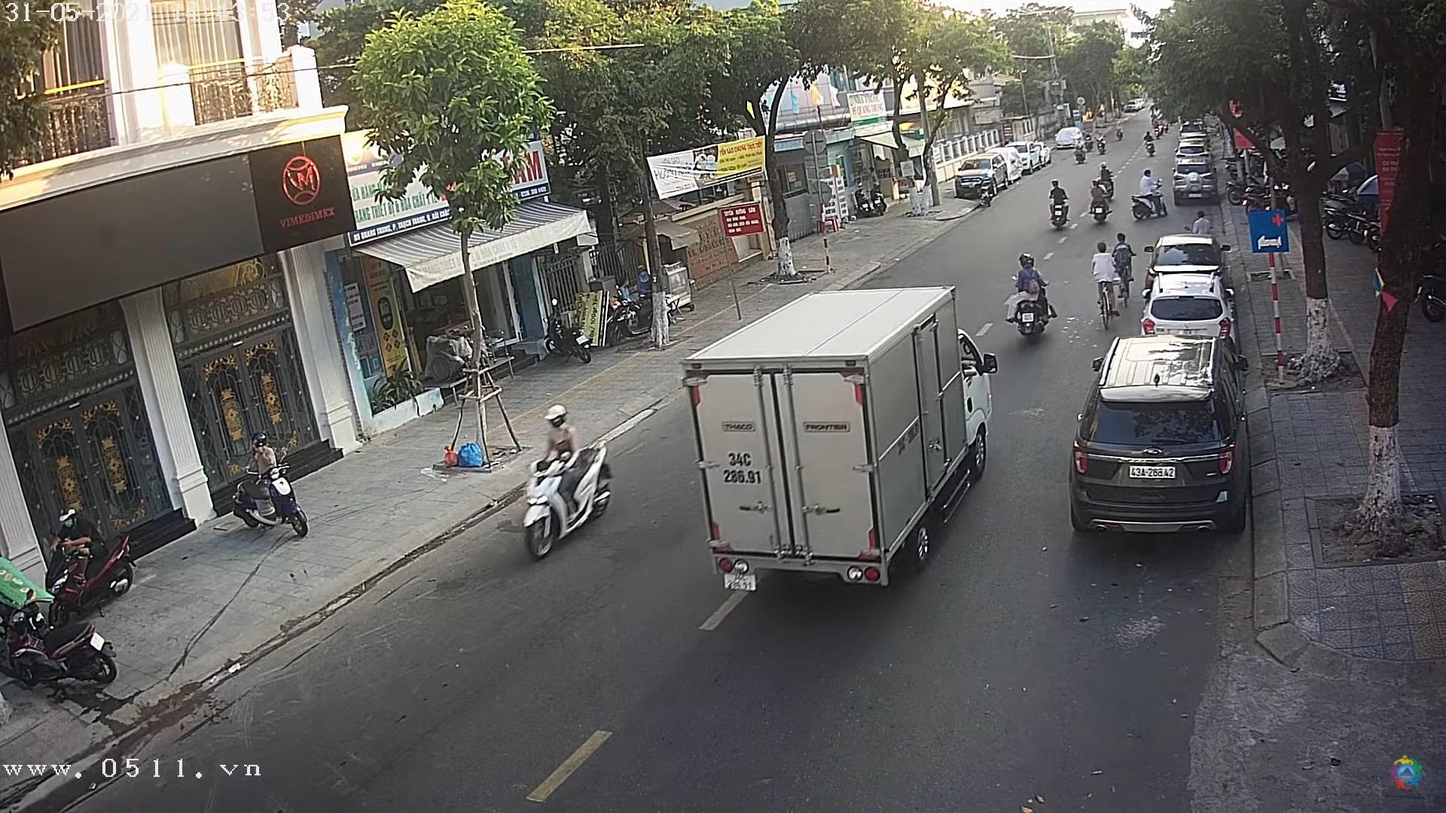bus: (680, 282, 995, 595)
car: (1071, 332, 1249, 535), (1141, 285, 1234, 340), (1150, 235, 1226, 279), (1176, 160, 1223, 208)
motorbike: (522, 450, 614, 562), (1005, 286, 1057, 339), (1128, 185, 1171, 223), (1048, 194, 1072, 237)
